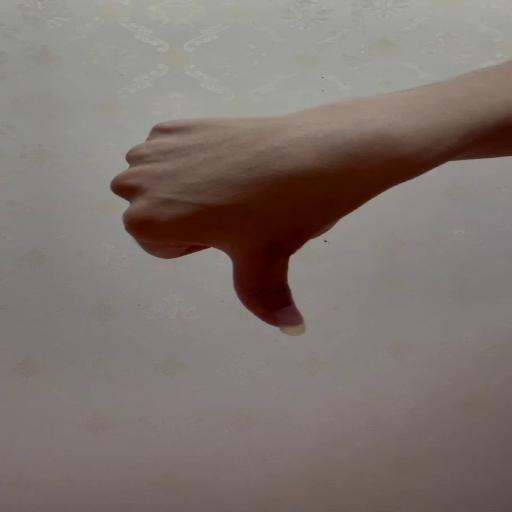thumbs_down: (107, 115, 415, 338)
